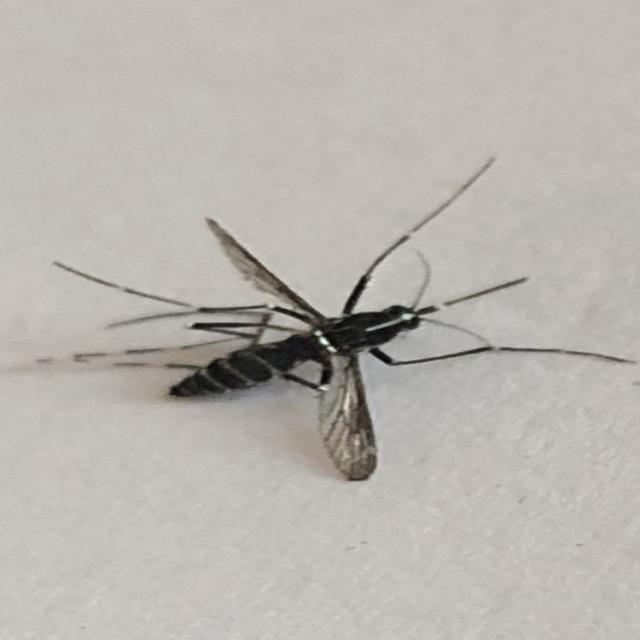albopictus: (46, 168, 640, 486)
